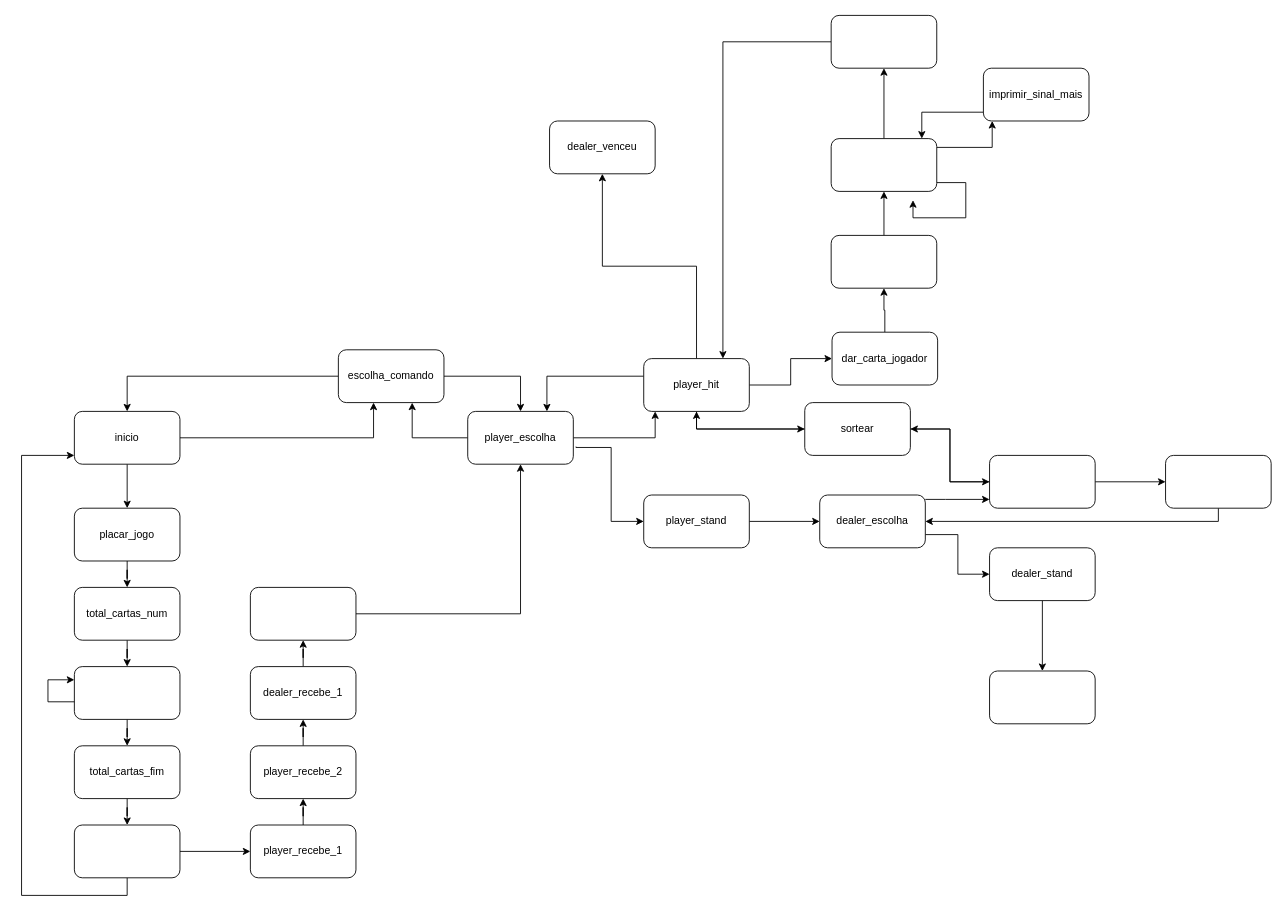
The diagram is 1287 pixels wide and 918 high, and some of its shapes have lost their labels. The shapes that lost their labels are listed below. From the top down, each one's centre as x and y in pixels, then its label:
At pixel 883 41: "imprimir_fim".
At pixel 883 164: "imprimir_loop".
At pixel 883 261: "mostrar_mao".
At pixel 1042 481: "dealer_hit".
At pixel 1218 481: "dar_carta_dealer".
At pixel 302 613: "dealer_recebe_2".
At pixel 126 692: "total_cartas_loop".
At pixel 1042 697: "compara".
At pixel 126 851: "total_cartas_print".
